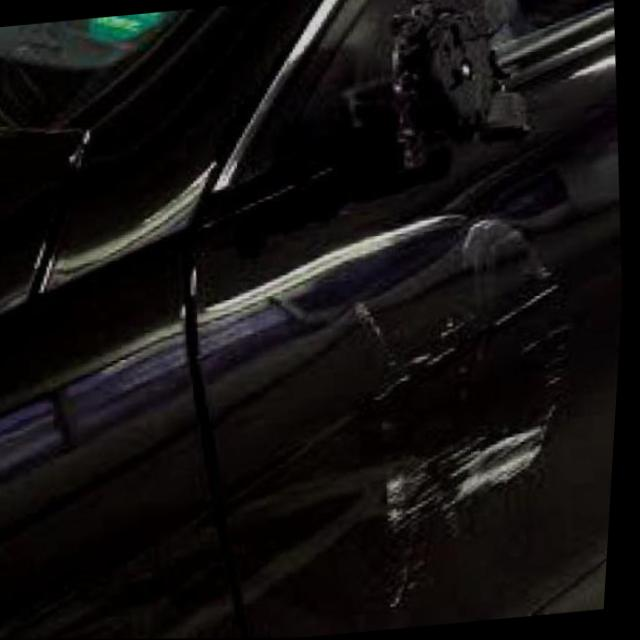Car-Damage: (324, 204, 621, 604), (357, 0, 562, 178)
